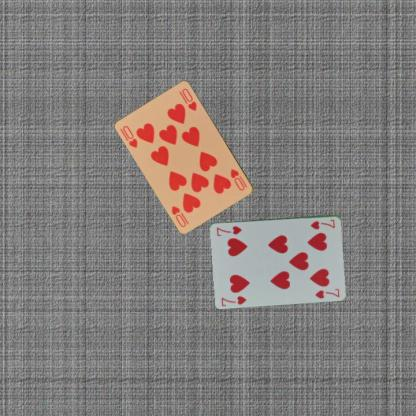10h: (228, 166, 249, 192), (120, 123, 139, 149)
7h: (308, 216, 336, 231), (219, 293, 247, 307)
